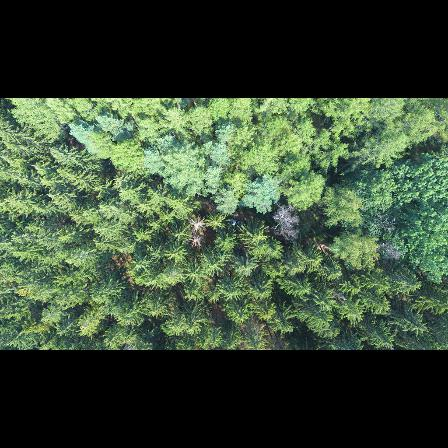Dead: (271, 206, 298, 238), (376, 240, 402, 259), (187, 212, 207, 231), (189, 232, 203, 251)
